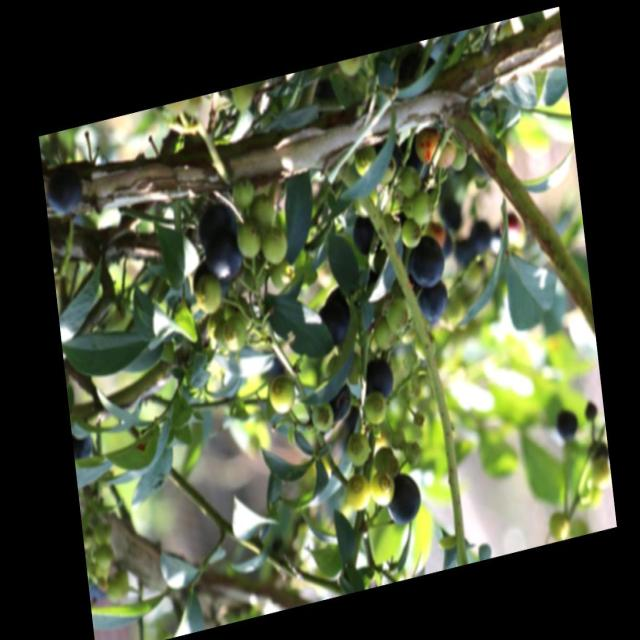blueberry: (44, 160, 89, 220), (384, 470, 425, 530), (404, 233, 447, 290), (191, 194, 236, 248), (315, 286, 354, 346), (358, 352, 398, 410), (205, 233, 243, 284), (349, 210, 379, 260), (417, 282, 451, 325), (326, 384, 351, 426)
blueberry-halfripe: (410, 123, 441, 166), (432, 133, 458, 171)
blueberry-unripe: (190, 264, 227, 320), (265, 370, 299, 419), (258, 223, 290, 267), (227, 171, 258, 213), (343, 470, 373, 513), (246, 191, 276, 234), (344, 428, 373, 472), (218, 314, 248, 356), (368, 466, 397, 509), (234, 219, 263, 262), (368, 313, 398, 354), (384, 296, 411, 335), (362, 386, 388, 426), (309, 397, 335, 436), (411, 325, 437, 363), (408, 188, 433, 227), (397, 162, 423, 199), (268, 256, 293, 292), (447, 134, 468, 174), (353, 143, 378, 176), (227, 82, 255, 111), (398, 215, 421, 249), (401, 438, 419, 467)
